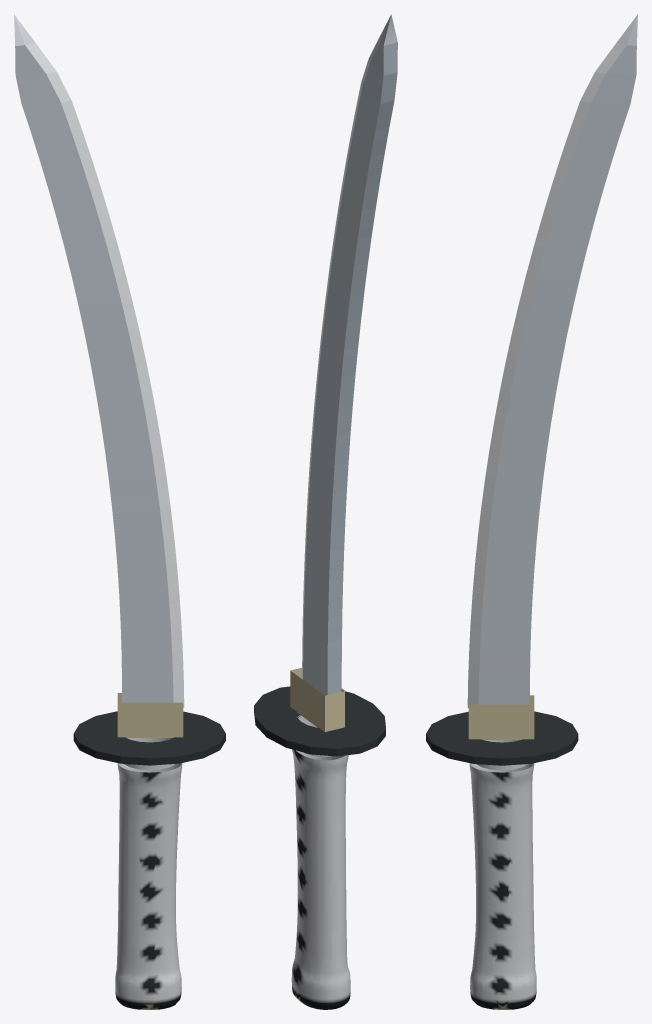
Rendered from weapon_blade_04.glb.
The picture shows the model from 3 angles, left to right: view 1: azimuth 90°, elevation 25°; view 2: azimuth 210°, elevation 25°; view 3: azimuth 270°, elevation 25°; orthographic projection. The views are drawn at different scales.
Parts seen in each view (by area): view 1: weapon; view 2: weapon; view 3: weapon.
Boxes of the visible parts, left/top/right/bottom form: weapon: left=14, top=14, right=225, bottom=1009; weapon: left=254, top=14, right=397, bottom=1009; weapon: left=426, top=14, right=637, bottom=1009.
Bounding box in the file's own units: 0.0845 × 0.784 × 0.1523.
